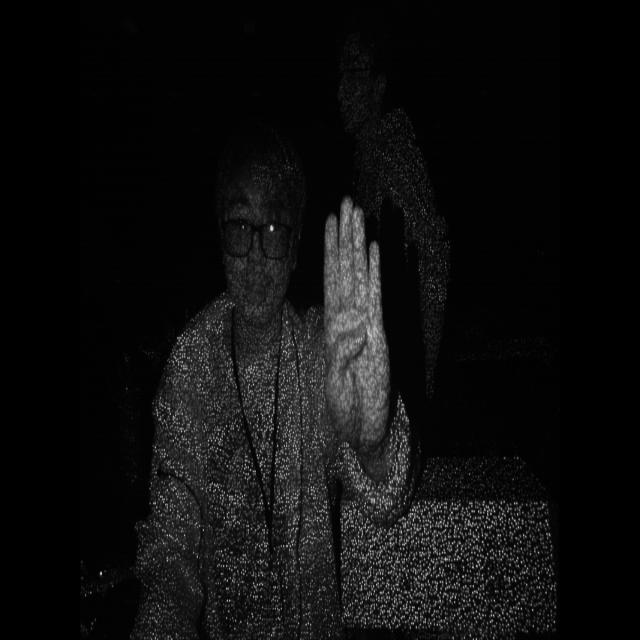B: (312, 181, 402, 469)
